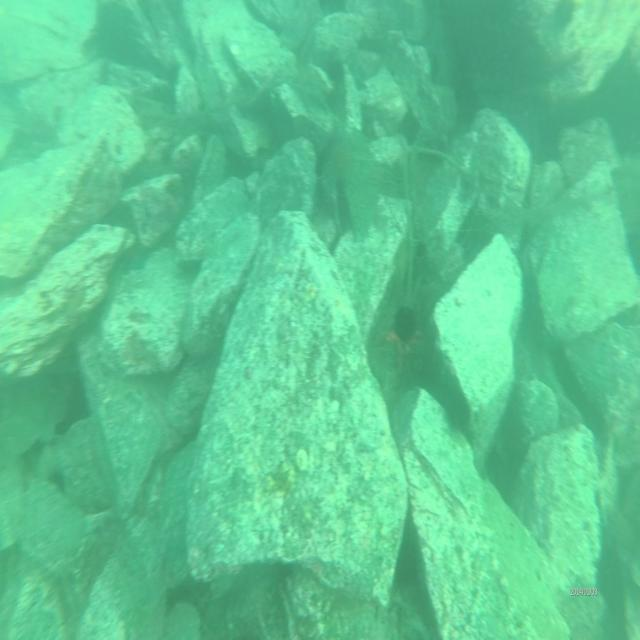echinus: (394, 304, 420, 344), (47, 470, 65, 497)
